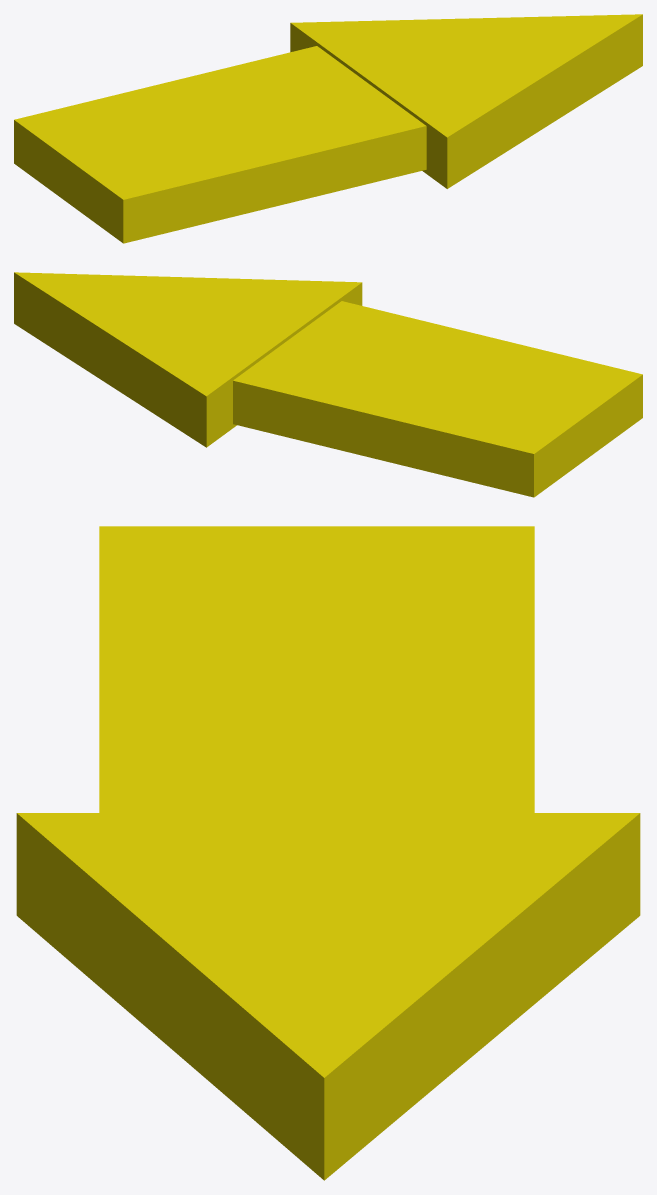
Rendered from Arrow 2.fbx.
3 renders of one model, top to bottom at view 1: azimuth 30°, elevation 25°; view 2: azimuth 150°, elevation 25°; view 3: azimuth 270°, elevation 25°, orthographic. The views are drawn at different scales.
Parts seen in each view (by area): view 1: Plane; view 2: Plane; view 3: Plane.
Boxes of the visible parts, x1=… form: Plane: x1=14, y1=14, x2=642, y2=243; Plane: x1=14, y1=272, x2=642, y2=497; Plane: x1=16, y1=526, x2=640, y2=1180.
Size of the model in its own units: 424 by 36.35 by 200.
